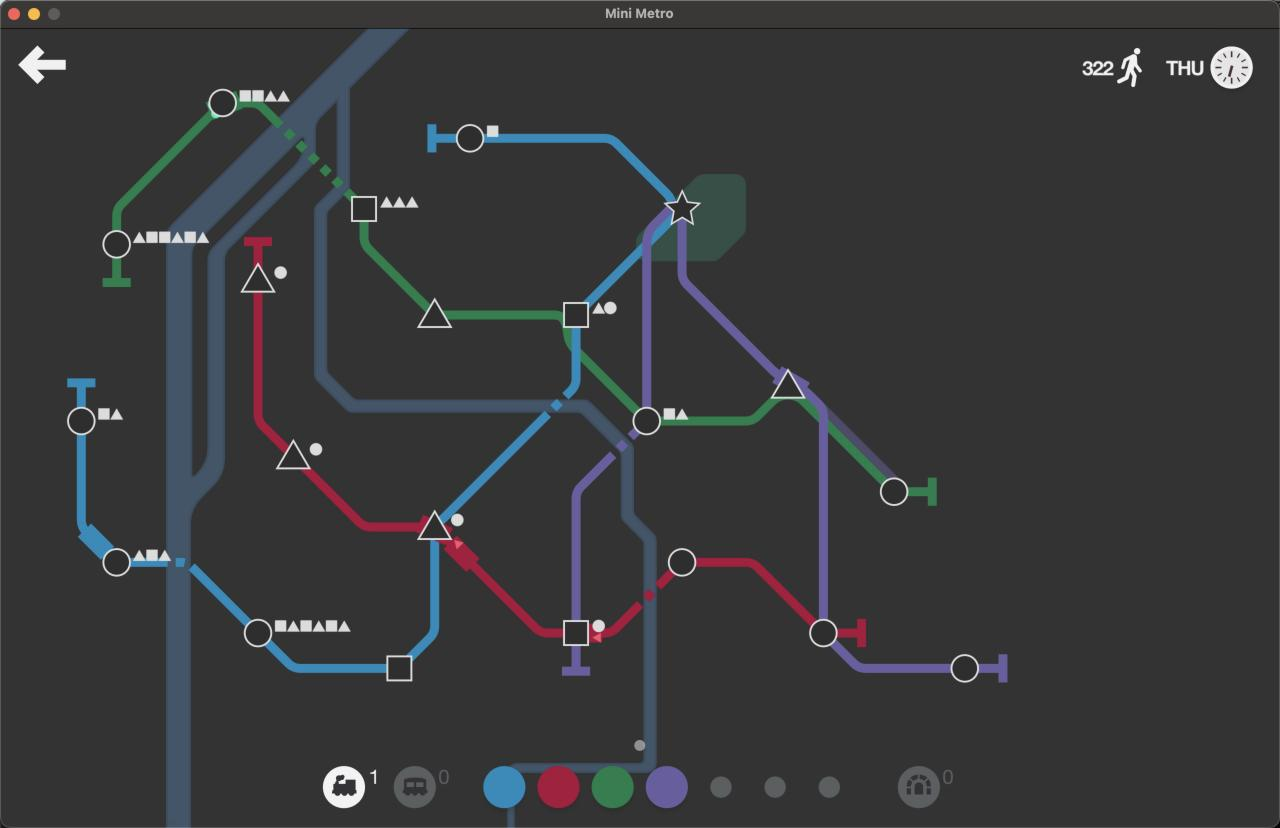CIRCLE: (455, 123, 485, 154), (809, 618, 839, 648), (102, 547, 132, 577), (631, 406, 661, 436), (207, 88, 237, 118), (67, 406, 97, 436), (950, 653, 979, 683), (880, 477, 909, 507), (243, 618, 272, 648), (667, 547, 696, 577), (102, 229, 131, 259)
SQUARE: (562, 618, 590, 647), (350, 195, 378, 223), (562, 301, 590, 329), (385, 654, 413, 682)
STAR: (662, 188, 702, 227)
TRIANGLE: (415, 508, 454, 542), (416, 297, 453, 330), (770, 367, 806, 400), (276, 439, 313, 471), (240, 262, 277, 294)
